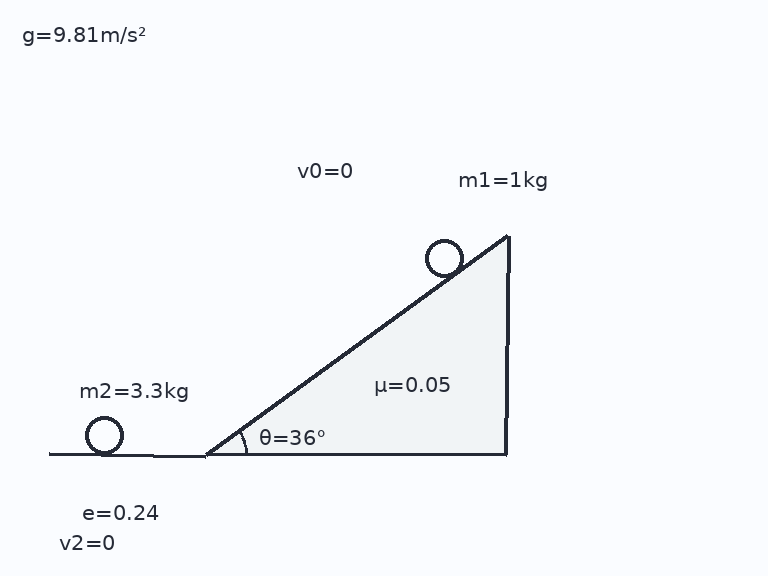ball: (423, 237, 465, 279), (83, 414, 125, 456)
ramp: (204, 234, 508, 456)
